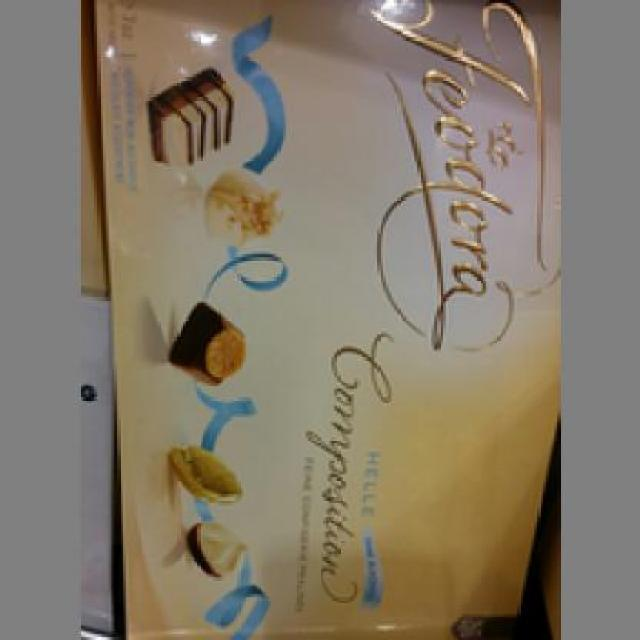Chocolate: (92, 0, 558, 637)
